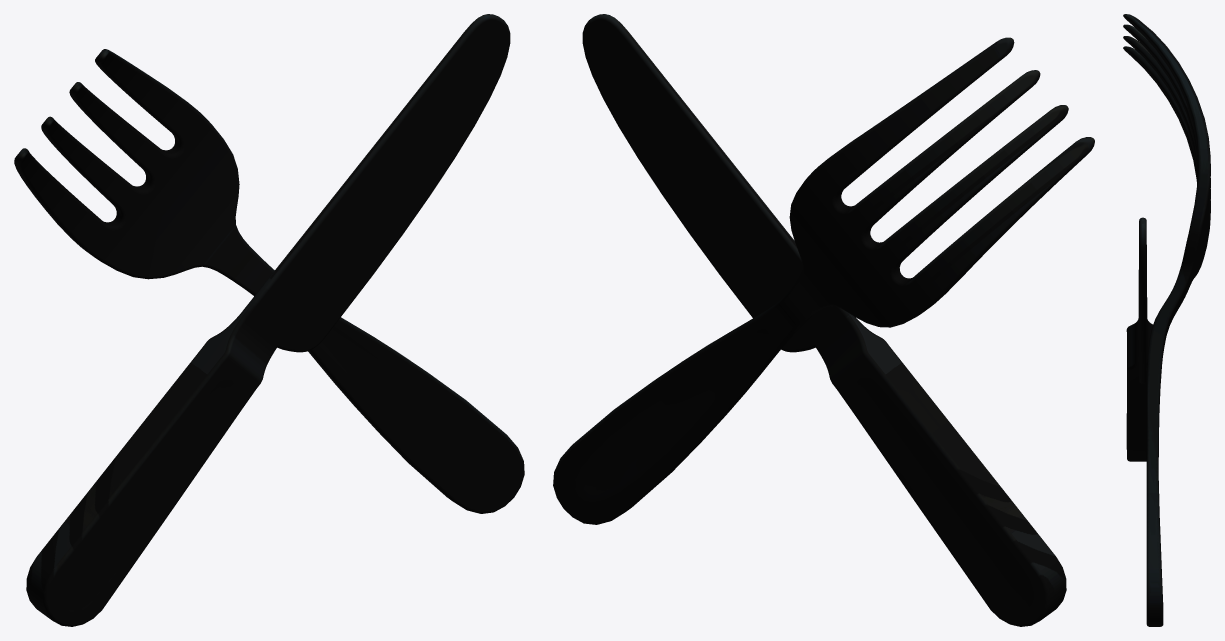
File: Plate2.glb
3 views of the same model, side by side, from view 1: azimuth 30°, elevation 25°; view 2: azimuth 150°, elevation 25°; view 3: azimuth 270°, elevation 25° (orthographic). The views are drawn at different scales.
Parts seen in each view (by area): view 1: node_id52; view 2: node_id52; view 3: node_id52.
Part boxes in pixels (x1,y1,x2,y2): node_id52: (14,14,524,626); node_id52: (553,14,1094,626); node_id52: (1123,14,1210,626).
Size of the model in its own units: 0.49 by 0.512 by 0.0898.
Materials: 1 (1 with a texture image).
